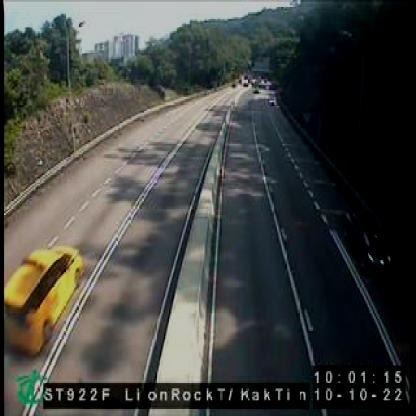Bus: (6, 246, 82, 360)
Car: (346, 210, 393, 279)
